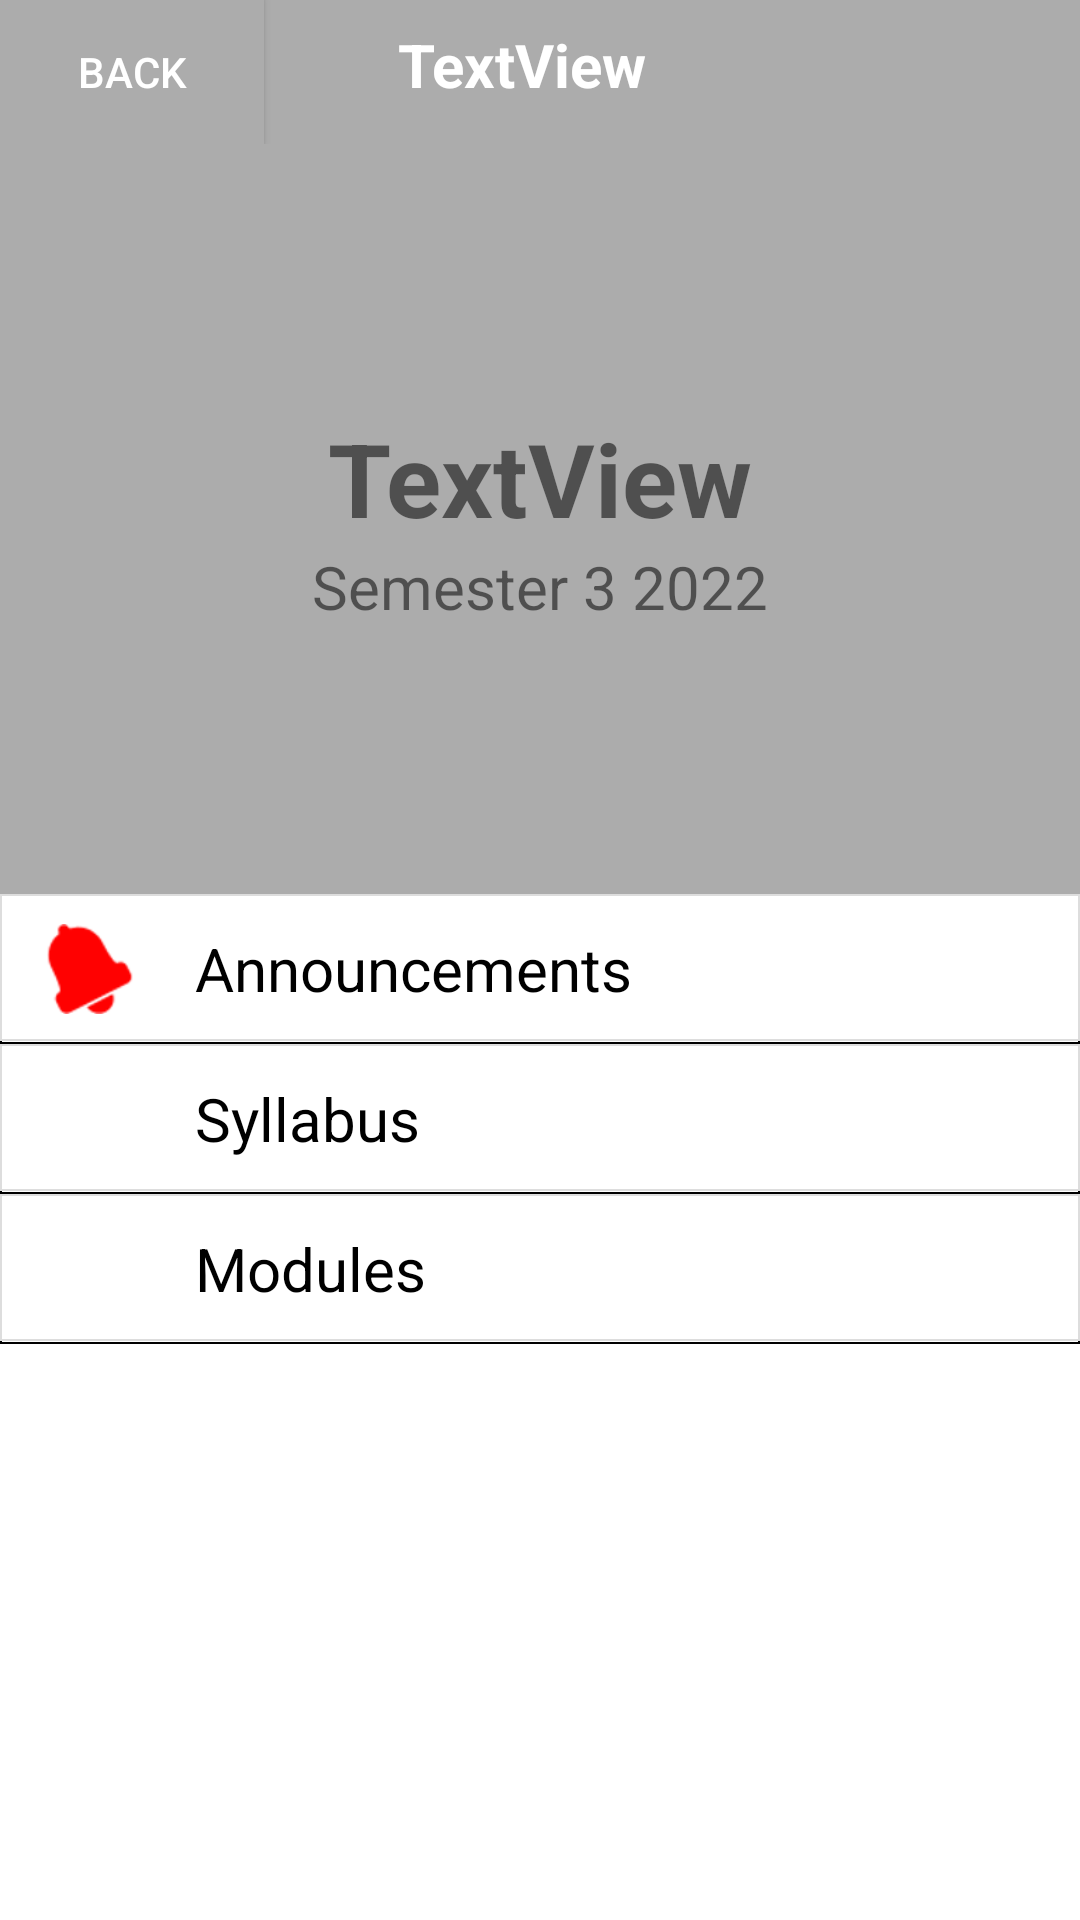

Icon bounding boxes for this 1080w x 1920h phone screenshot, format [x1, y1, x2, y2]:
popup reminder: [47, 924, 133, 1014]
